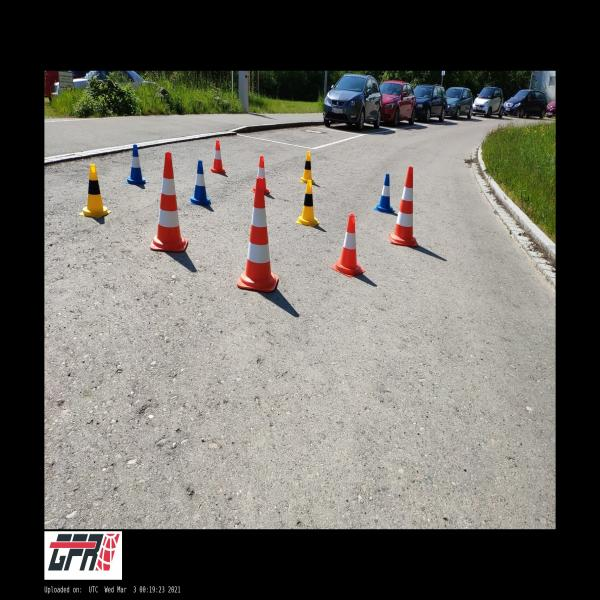blue_cone: (124, 144, 148, 186), (190, 160, 210, 206), (374, 174, 395, 213)
large_orange_cone: (237, 177, 279, 293), (150, 152, 189, 252), (389, 166, 418, 247)
orange_cone: (332, 214, 366, 278), (251, 156, 270, 195), (211, 140, 226, 174)
yellow_cone: (78, 164, 112, 218), (295, 179, 320, 227), (301, 151, 314, 184)
